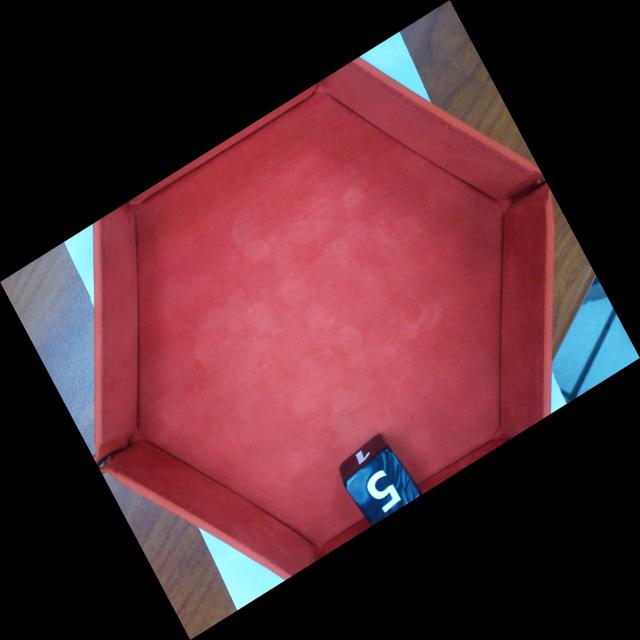dice: (342, 445, 423, 527)
